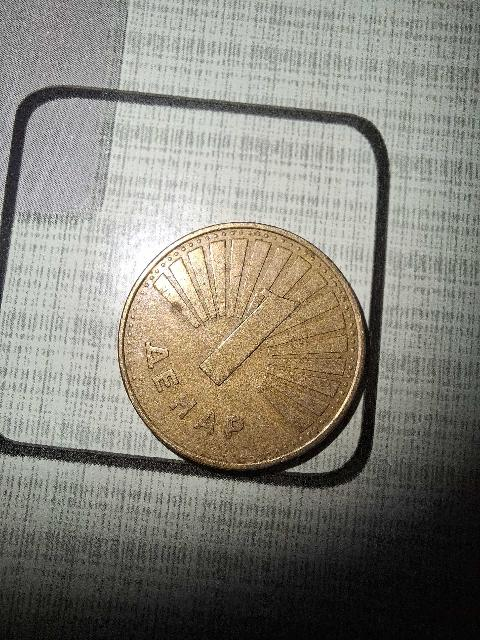coin: (119, 223, 365, 470)
